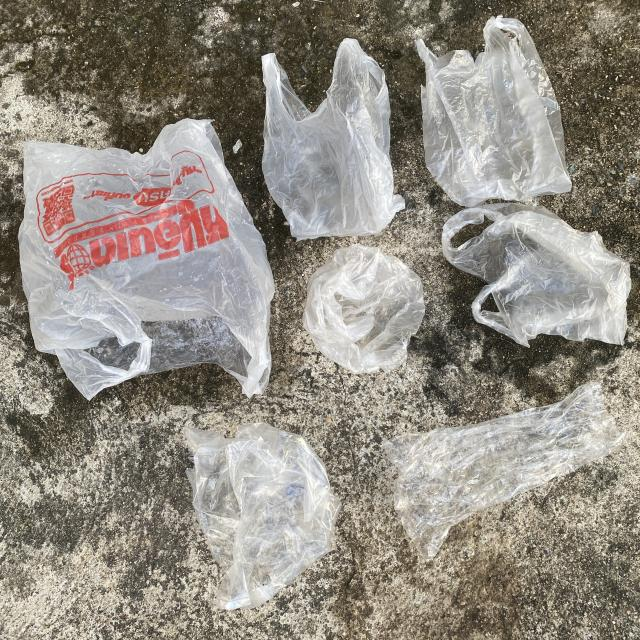Single-layer Plastic: (19, 119, 274, 399), (385, 382, 626, 559), (416, 16, 571, 206), (185, 422, 341, 610), (261, 39, 405, 241), (441, 204, 631, 346), (302, 244, 425, 374)
